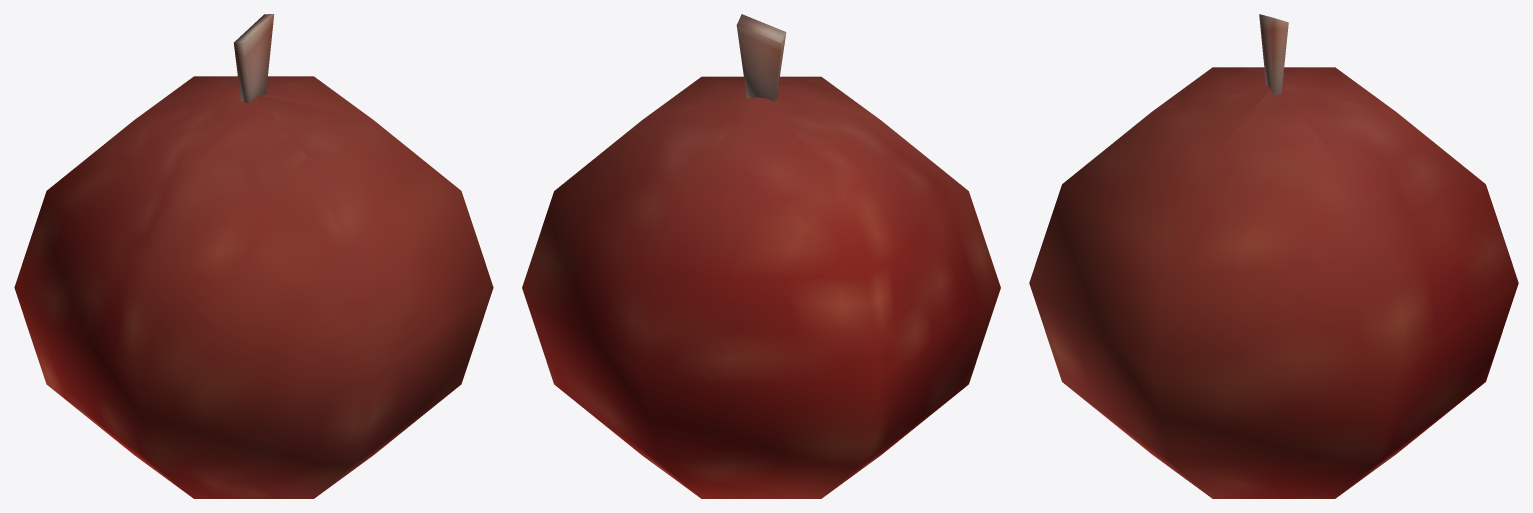
The model's file is Apple.fbx.
3 renders of one model, left to right at view 1: azimuth 30°, elevation 25°; view 2: azimuth 150°, elevation 25°; view 3: azimuth 270°, elevation 25°, orthographic. The views are drawn at different scales.
Parts seen in each view (by area): view 1: Apple; view 2: Apple; view 3: Apple.
Part boxes in pixels (<box>): Apple: <box>14,14,493,498</box>; Apple: <box>522,14,1000,498</box>; Apple: <box>1029,14,1518,498</box>.
Bounding box in the file's own units: 0.0996 × 0.1224 × 0.115.
